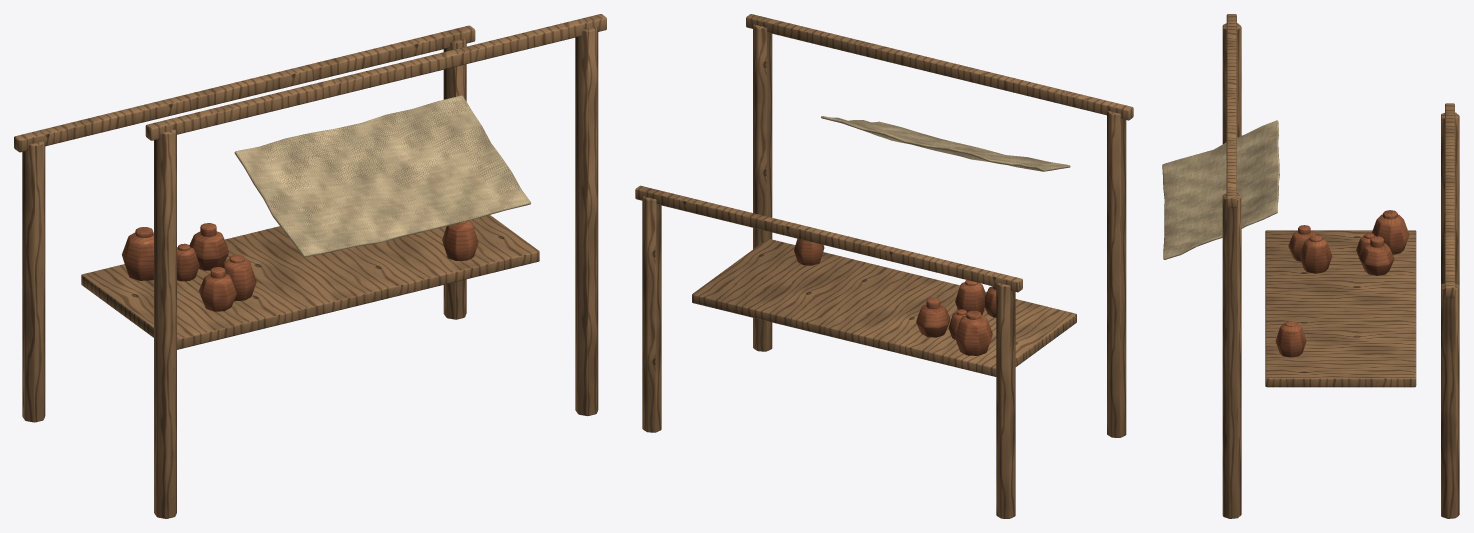
The model's file is leanto_pottery.glb.
The picture shows the model from 3 angles, left to right: view 1: azimuth 30°, elevation 25°; view 2: azimuth 150°, elevation 25°; view 3: azimuth 270°, elevation 25°; orthographic projection. The views are drawn at different scales.
Parts seen in each view (by area): view 1: leanto_pottery; view 2: leanto_pottery; view 3: leanto_pottery.
Boxes of the visible parts, x1,y1,x2,y2 form: leanto_pottery: [14, 14, 606, 518]; leanto_pottery: [635, 14, 1133, 518]; leanto_pottery: [1162, 14, 1459, 518].
Bounding box in the file's own units: 2.6 × 2.14 × 1.77.
Materials: 3 (3 with a texture image).
